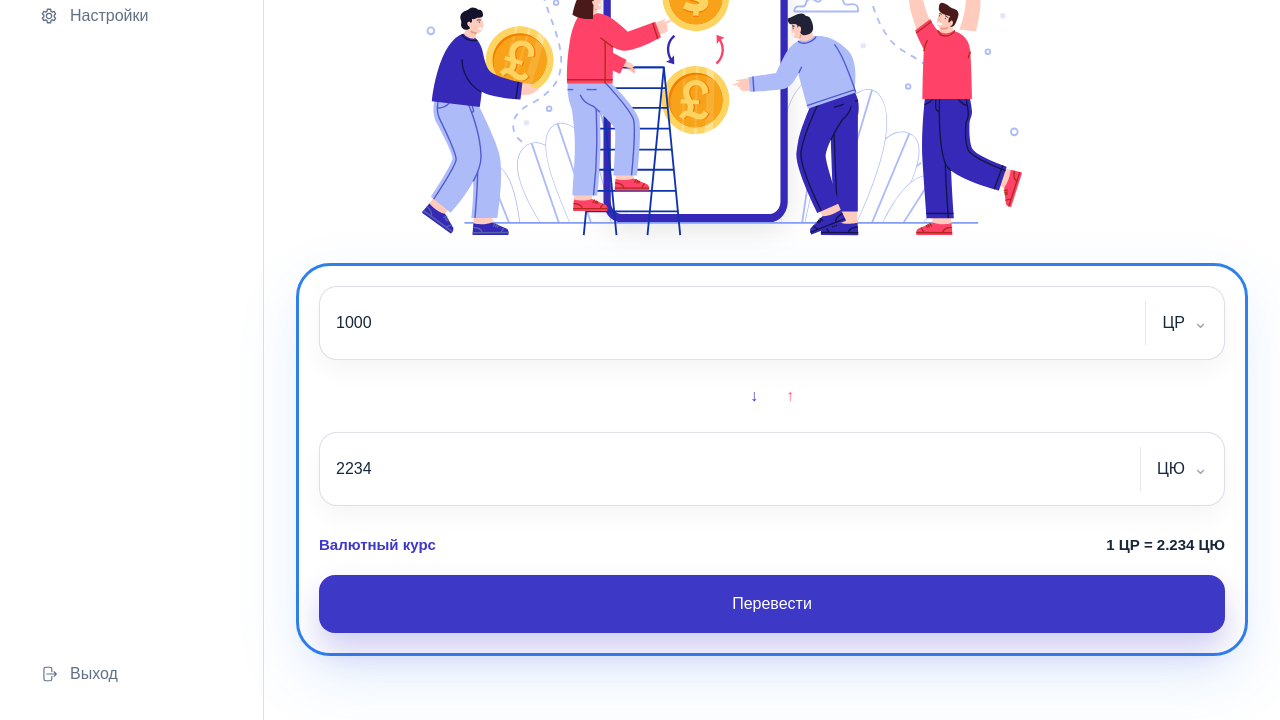
Scenario: CurrencyExchangePage › allows swapping the currency direction inside the exchange form
This screenshot has width=1280, height=720.
(page scrolled)
Click the button named "Поменять валюты местами: ЦР и ЦЮ" at coordinates (754, 395), box top-left (319, 380), bottom-right (1225, 412)
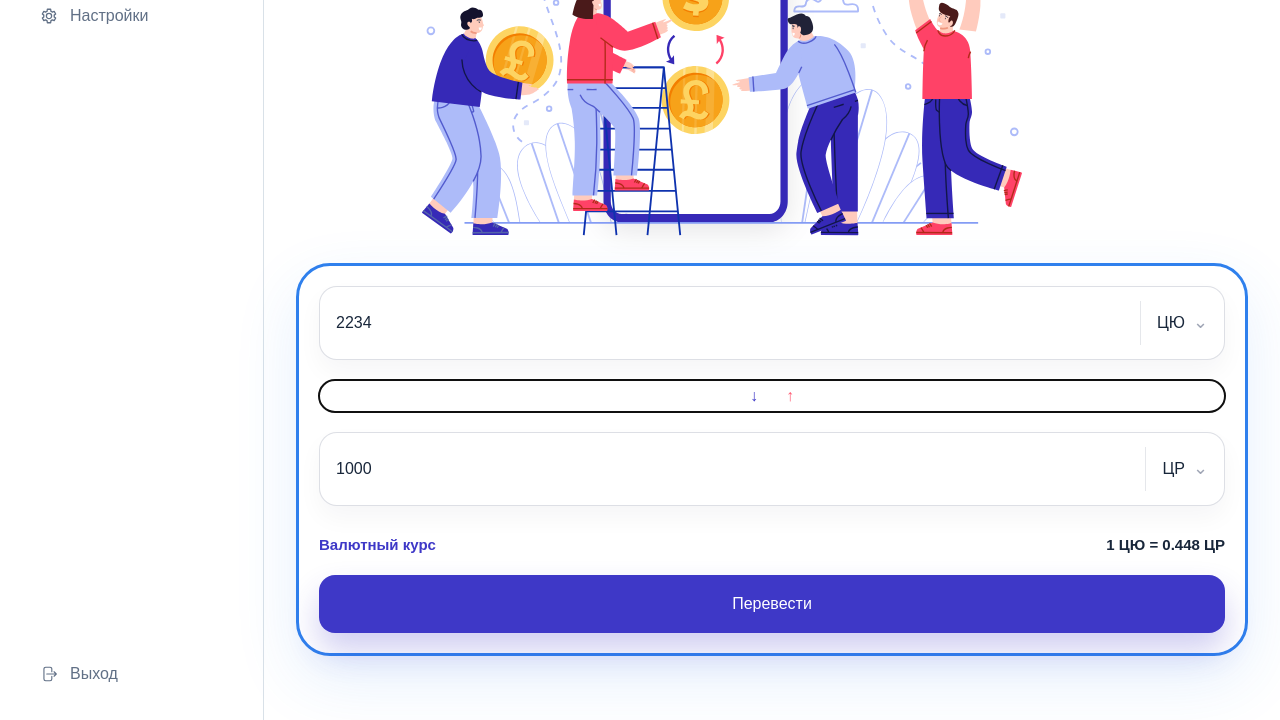
Result: the field named "Сумма списания в ЦЮ" holds "2234" at top-left (336, 311), bottom-right (1124, 335)
Result: the field named "Сумма получения в ЦР" holds "1000" at top-left (336, 457), bottom-right (1129, 481)
Result: the text "1 ЦЮ = 0.448 ЦР" is shown at top-left (1106, 534), bottom-right (1225, 555)
